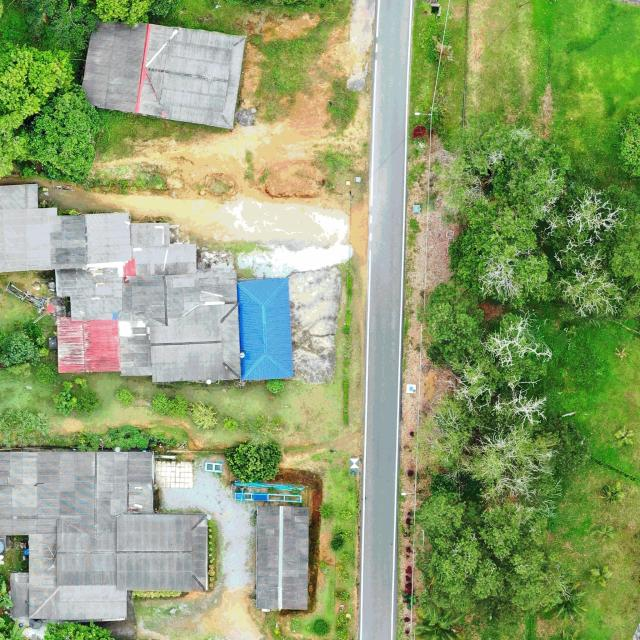Tree: (428, 312, 556, 516), (416, 494, 572, 614), (432, 116, 570, 232), (542, 182, 640, 318), (461, 200, 556, 308), (26, 82, 104, 177), (423, 280, 487, 370), (17, 0, 99, 52), (225, 442, 283, 484), (414, 604, 467, 640), (152, 393, 188, 417), (116, 389, 133, 406)
